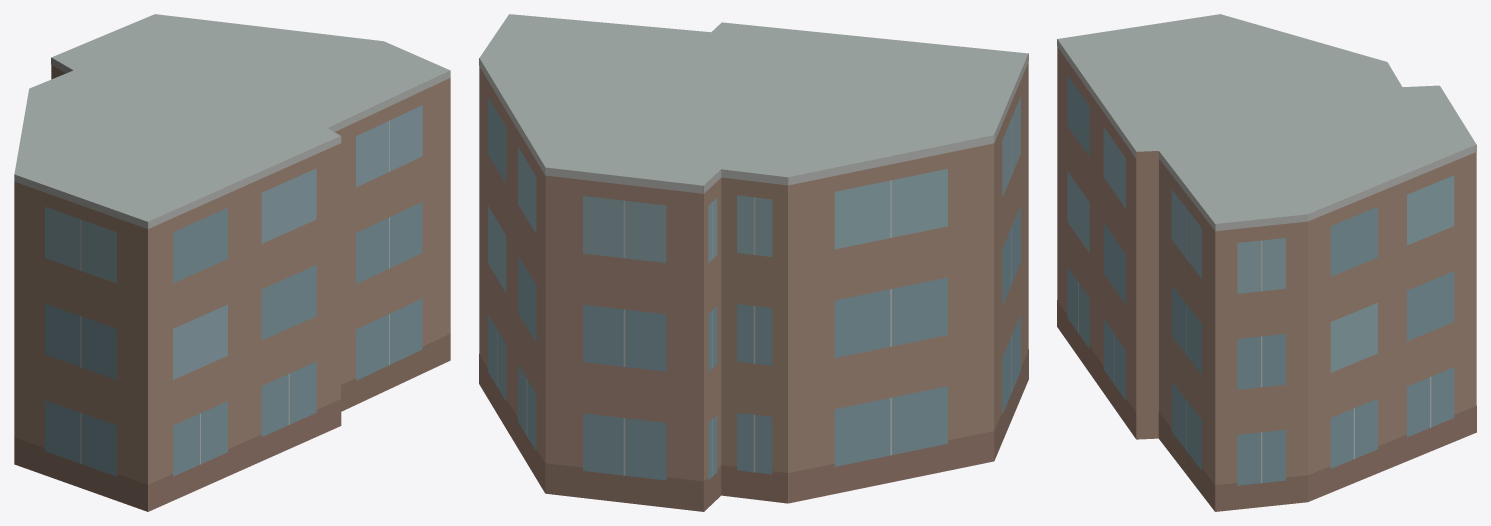
File: survey-upis-32661997.glb
The picture shows the model from 3 angles, left to right: view 1: azimuth 30°, elevation 25°; view 2: azimuth 150°, elevation 25°; view 3: azimuth 270°, elevation 25°; orthographic projection. The views are drawn at different scales.
Parts seen in each view (by area): view 1: survey-upis-32661997.tmp; view 2: survey-upis-32661997.tmp; view 3: survey-upis-32661997.tmp.
Part boxes in pixels (x1=…): survey-upis-32661997.tmp: x1=14, y1=14, x2=450, y2=511; survey-upis-32661997.tmp: x1=479, y1=14, x2=1028, y2=511; survey-upis-32661997.tmp: x1=1057, y1=14, x2=1476, y2=511.
Size of the model in its own units: 15.35 by 9.8 by 12.96.
